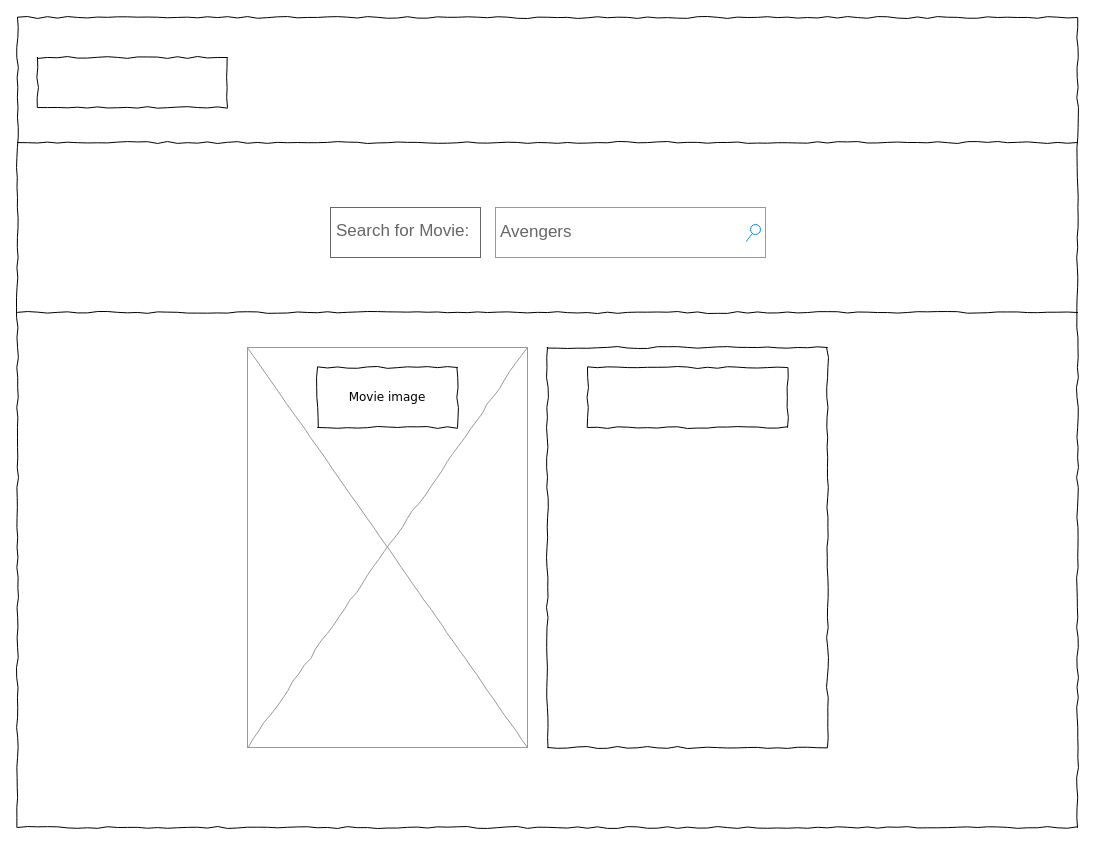
Some shapes in this 1095 by 845 pixel diagram are drawn without their labels. The centre of each missing label's shape, as x and y in pixels:
"LOGO" belongs at point (132, 82).
"Movie details" belongs at point (687, 397).
